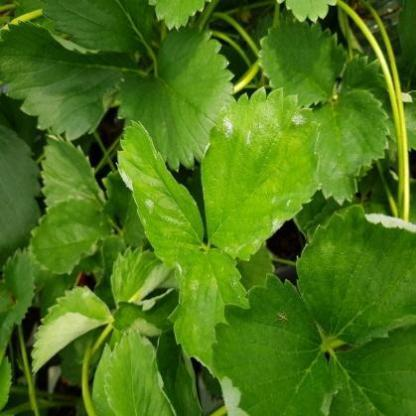Strawberry_Powdery_Mildew_Leaf: (199, 85, 320, 262), (210, 273, 343, 415), (294, 205, 415, 347), (115, 120, 204, 268), (167, 248, 251, 380), (29, 286, 115, 376)
